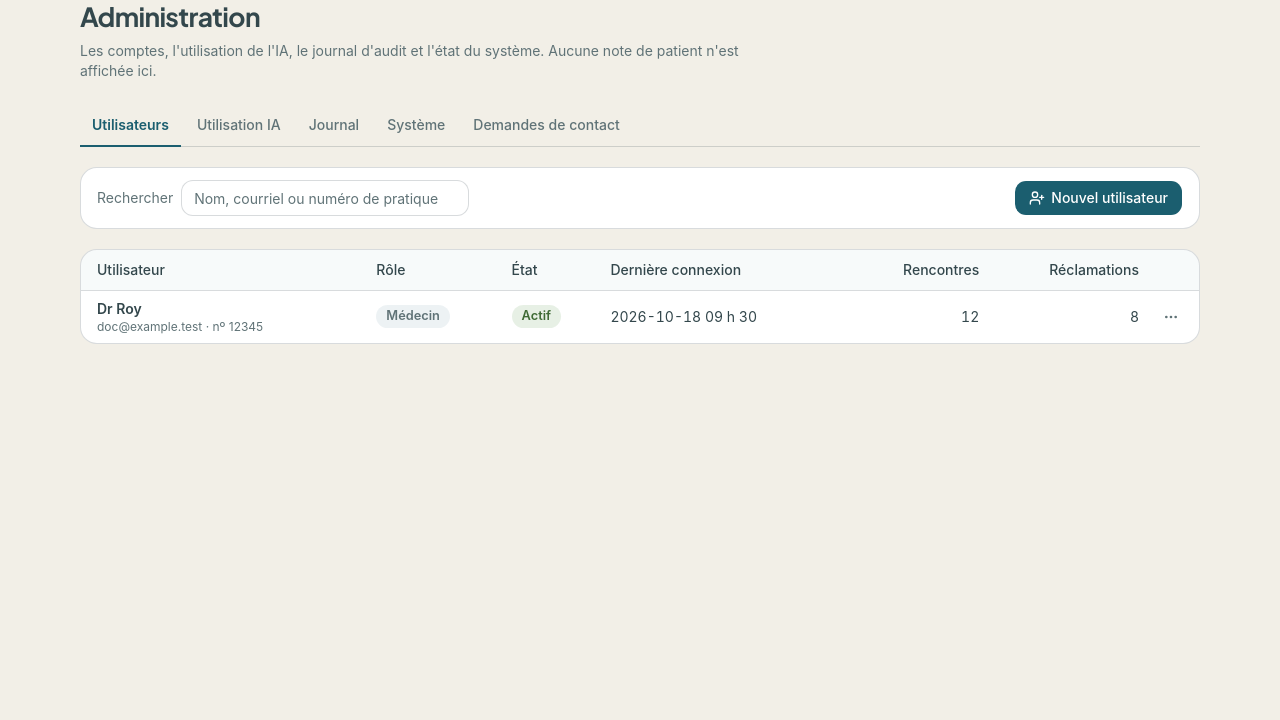
users tab › resets a password and shows the new temporary one
expect the text "Dr Roy" is shown: met, box left=97, top=300, right=142, bottom=316
Click the button named "Actions — Dr Roy".
click(1171, 316)  # box left=1155, top=300, right=1187, bottom=332
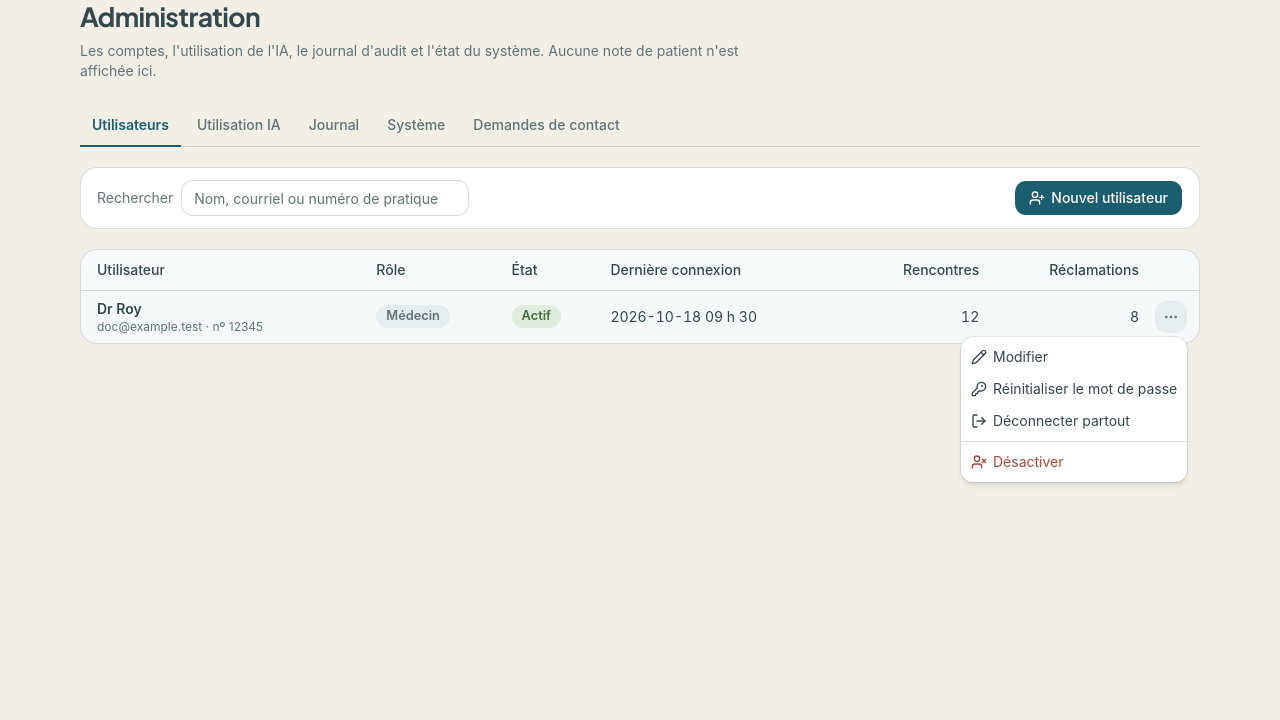
Click the menu item "Réinitialiser le mot de passe".
click(1074, 388)  # box left=971, top=380, right=1177, bottom=397
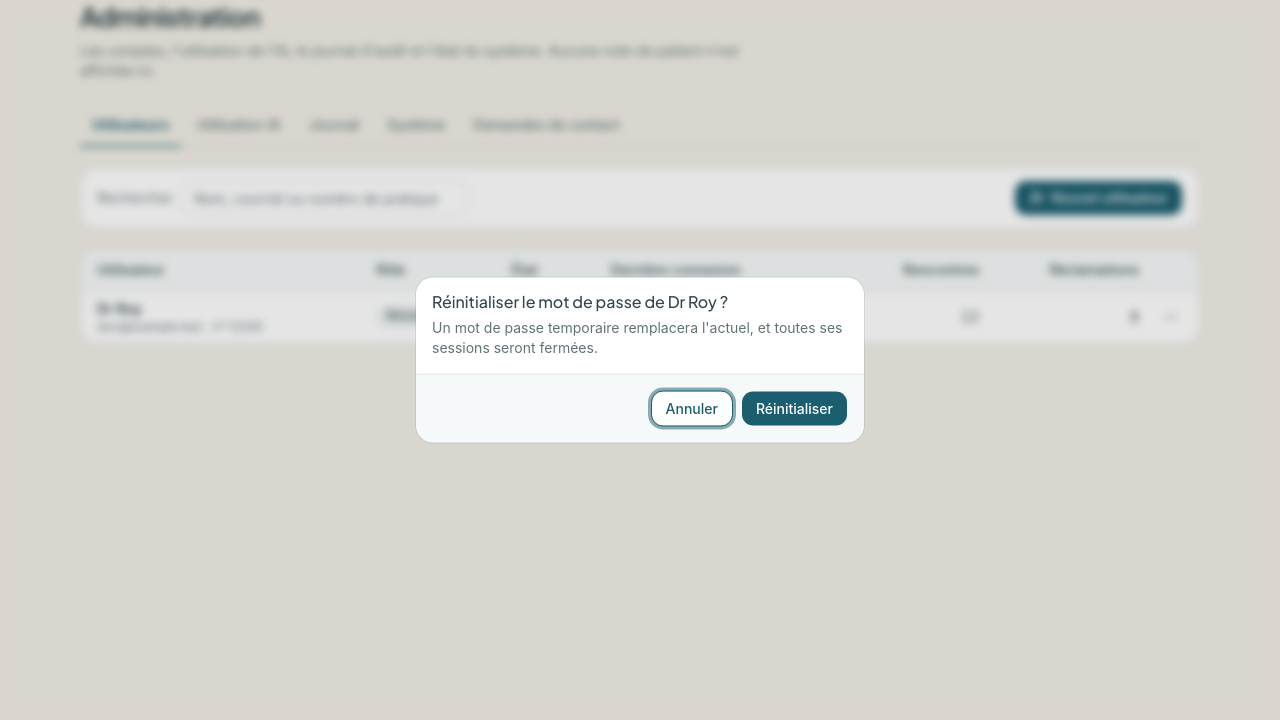
Click the button "Réinitialiser".
click(794, 408)  # box left=741, top=390, right=848, bottom=426
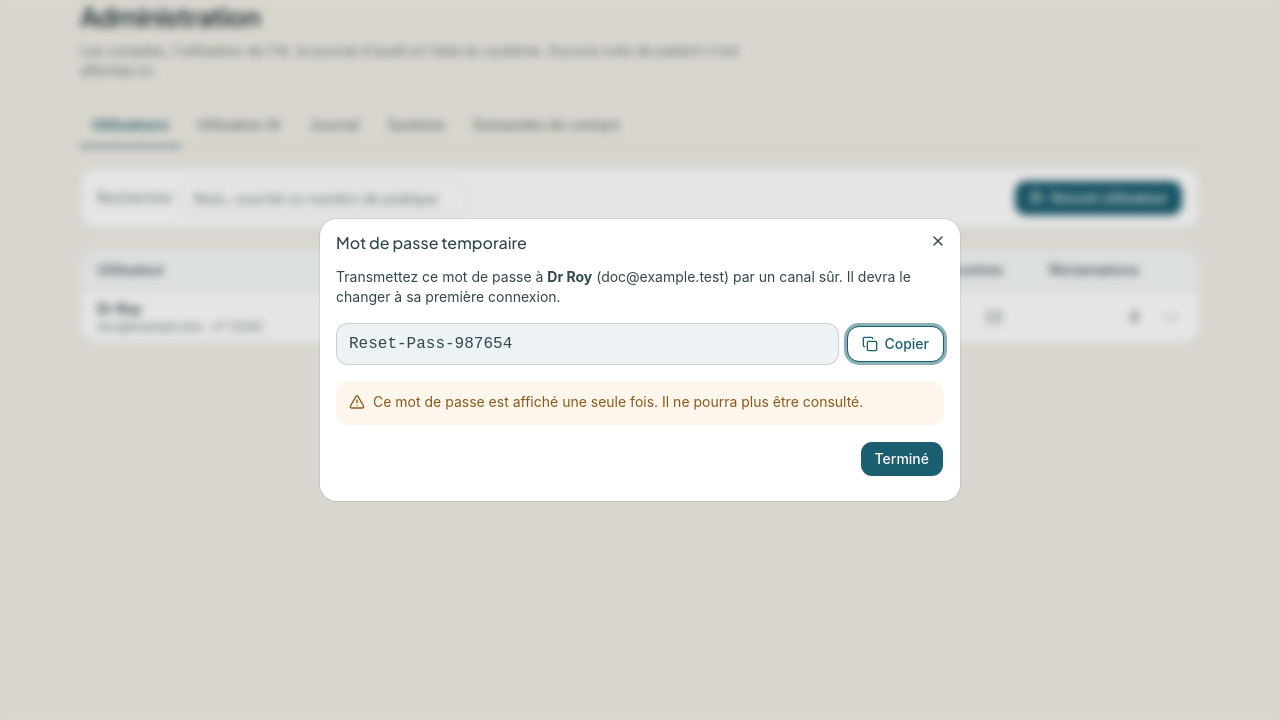
expect the text "Reset-Pass-987654" is shown: met, box left=336, top=323, right=840, bottom=365
